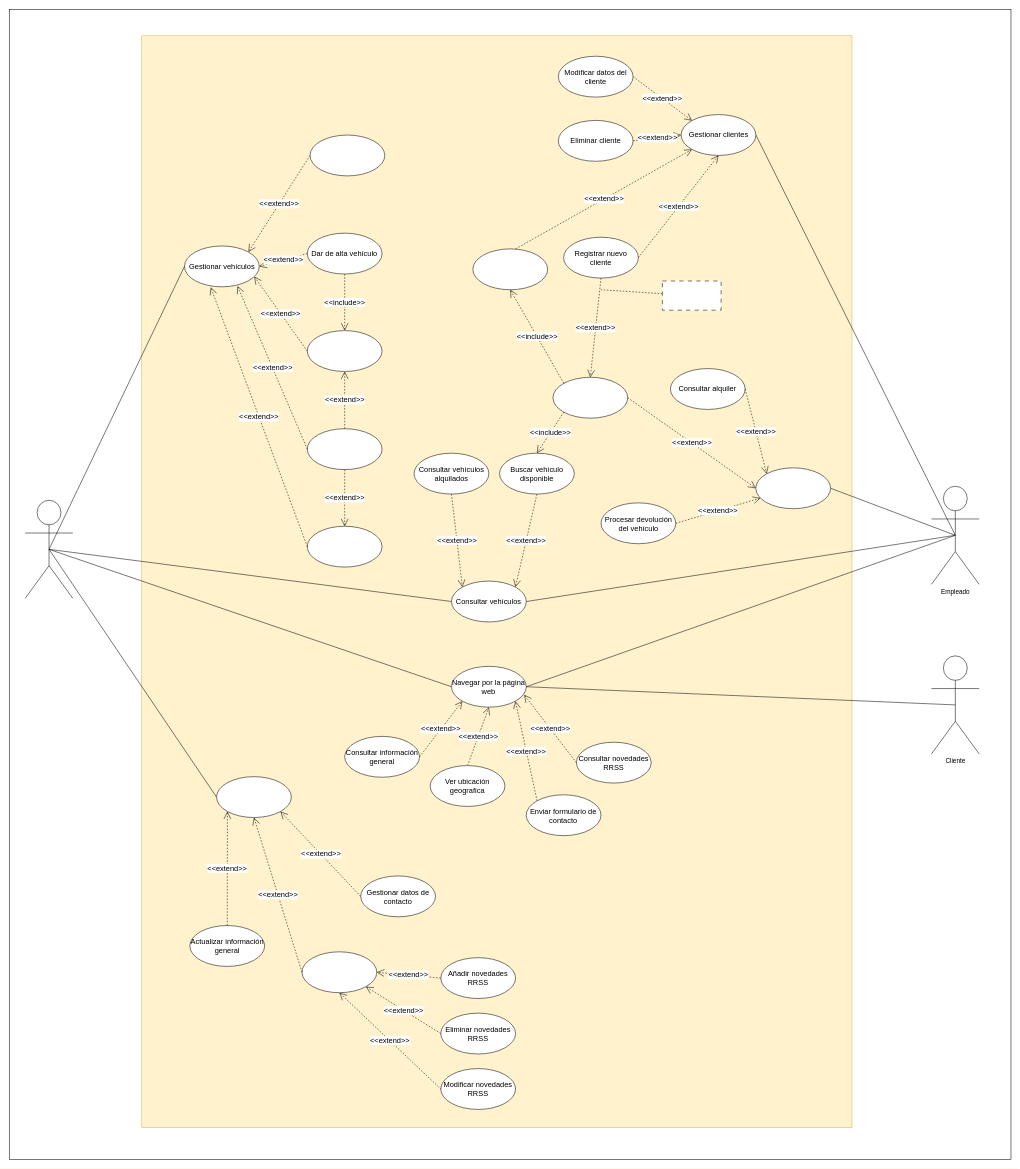
The diagram is 1020 pixels wide and 1169 high, and some of its shapes have lost their labels. The shapes that lost their labels are listed below. From the top down, each one's centre as x and y in pixels, then its label:
[347,155]: Eliminar vehículo
[510,269]: Buscar cliente
[691,295]: Si el cliente no está registrado
[344,350]: Insertar fecha de mantenimiento
[590,397]: Crear nuevo alquiler
[344,449]: Modificar datos del vehículo
[793,488]: Gestionar alquileres
[49,549]: Administrador
[344,546]: Cambiar precio de alquiler por día
[253,797]: Gestionar página web
[339,972]: Gestionar novedades RRSS
